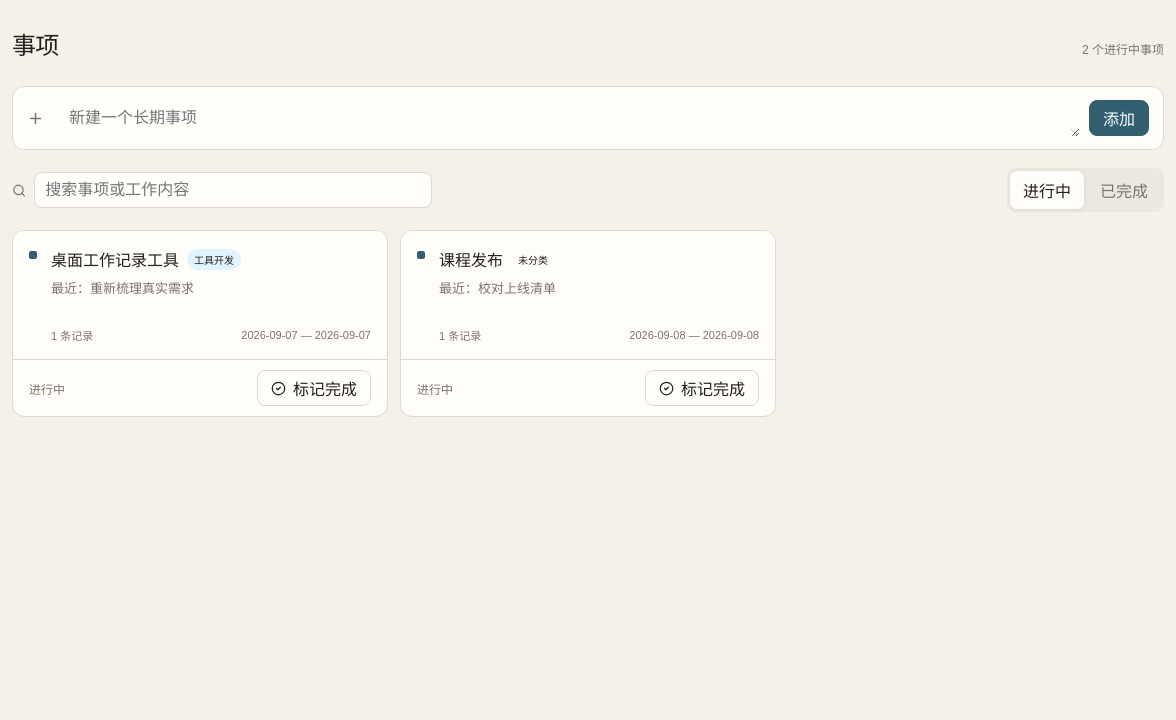
Test case: long-running work items › opens an item and shows its accumulated progress timeline
Click the button with aria-label "桌面工作记录工具，查看进展" at (115, 260), box [13,231,387,359]
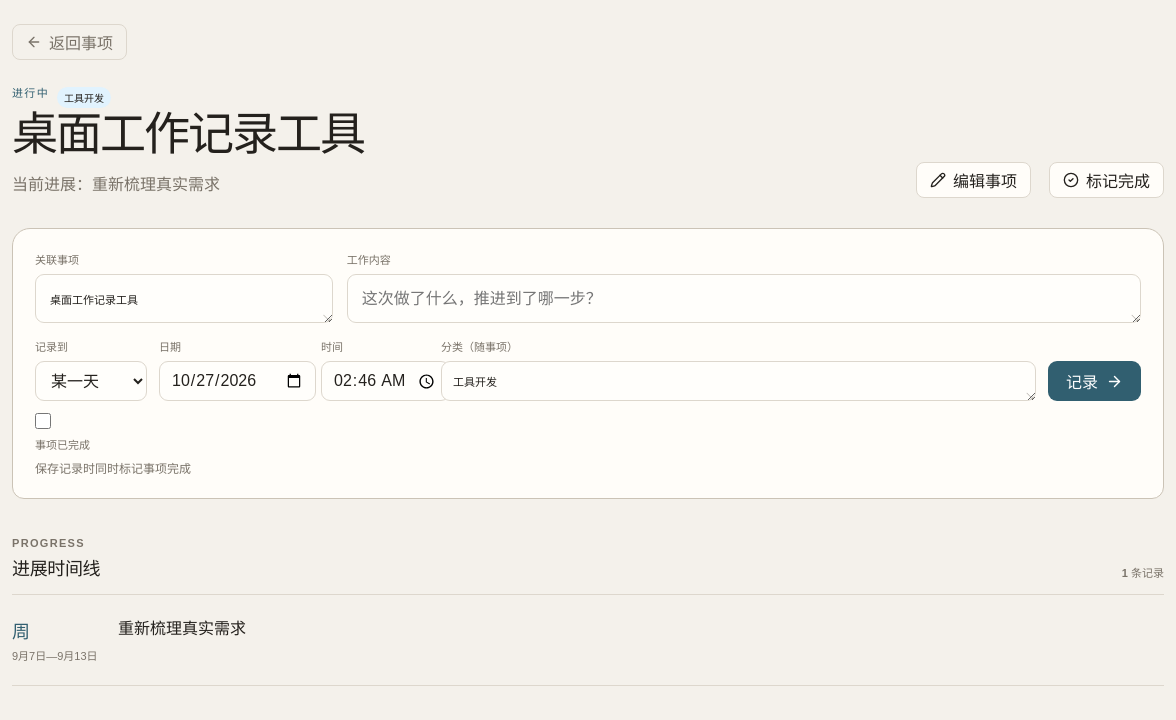
Now the text "重新梳理真实需求" is shown, box [118,620,246,637]
